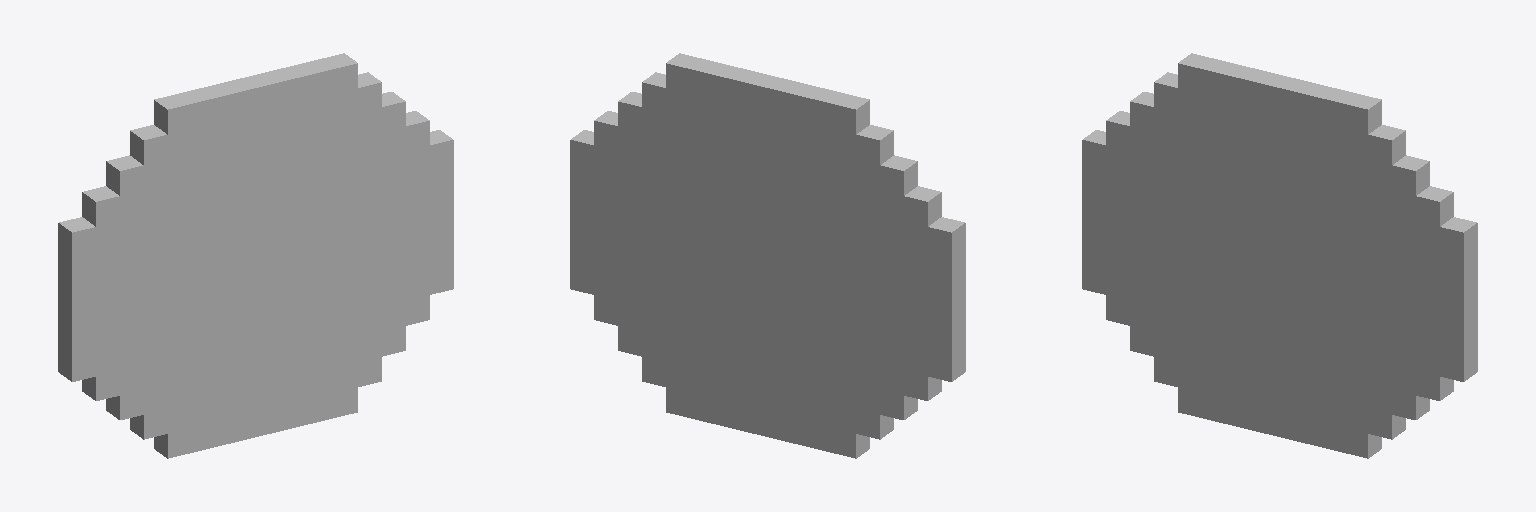
File: ikonka coin.obj
The picture shows the model from 3 angles: view 1: azimuth 30°, elevation 25°; view 2: azimuth 150°, elevation 25°; view 3: azimuth 330°, elevation 25°; orthographic projection.
Visible parts, largest first — view 1: object 1; view 2: object 1; view 3: object 1.
Boxes of the visible parts, x1=… form: object 1: x1=58, y1=53, x2=453, y2=458; object 1: x1=570, y1=53, x2=965, y2=458; object 1: x1=1082, y1=53, x2=1477, y2=458.
Bounding box in the file's own units: 1.6 × 1.4 × 0.1.